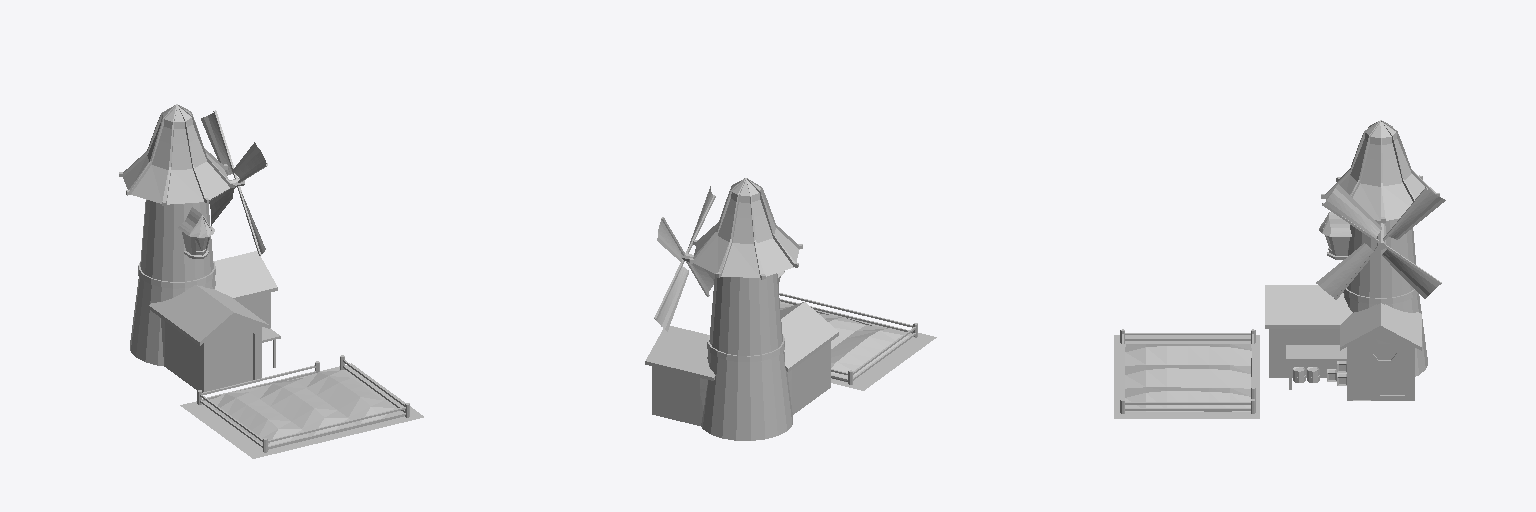
File: Farm.obj
The picture shows the model from 3 angles: view 1: azimuth 30°, elevation 25°; view 2: azimuth 150°, elevation 25°; view 3: azimuth 270°, elevation 25°; orthographic projection.
Visible parts, largest first — view 1: Plane, Base, Top, House.001, RoofLeft, Hands, RoofRight, Window; view 2: Base, Top, House.001, Plane, RoofRight, RoofLeft, Hands; view 3: Plane, House.001, Top, Hands, Base, RoofLeft, RoofRight, Window, ShedTop.
Boxes of the visible parts, x1,y1,x2,y2 form: Plane: [180, 363, 423, 458]; Base: [130, 200, 215, 365]; Top: [119, 104, 234, 205]; House.001: [161, 293, 270, 394]; RoofLeft: [149, 285, 269, 345]; Hands: [201, 110, 267, 255]; RoofRight: [214, 251, 277, 300]; Window: [178, 207, 214, 258]; Base: [701, 273, 792, 440]; Top: [689, 178, 802, 279]; House.001: [652, 342, 830, 425]; Plane: [780, 301, 936, 390]; RoofRight: [645, 326, 715, 380]; RoofLeft: [781, 302, 838, 372]; Hands: [654, 186, 715, 331]; Plane: [1114, 335, 1259, 418]; House.001: [1269, 329, 1414, 400]; Top: [1321, 120, 1439, 222]; Hands: [1316, 184, 1445, 299]; Base: [1343, 218, 1427, 376]; RoofLeft: [1265, 285, 1352, 328]; RoofRight: [1340, 303, 1421, 350]; Window: [1319, 212, 1351, 259]; ShedTop: [1286, 345, 1346, 360].
Bounding box in the file's own units: 39.63 × 53.8 × 66.49.